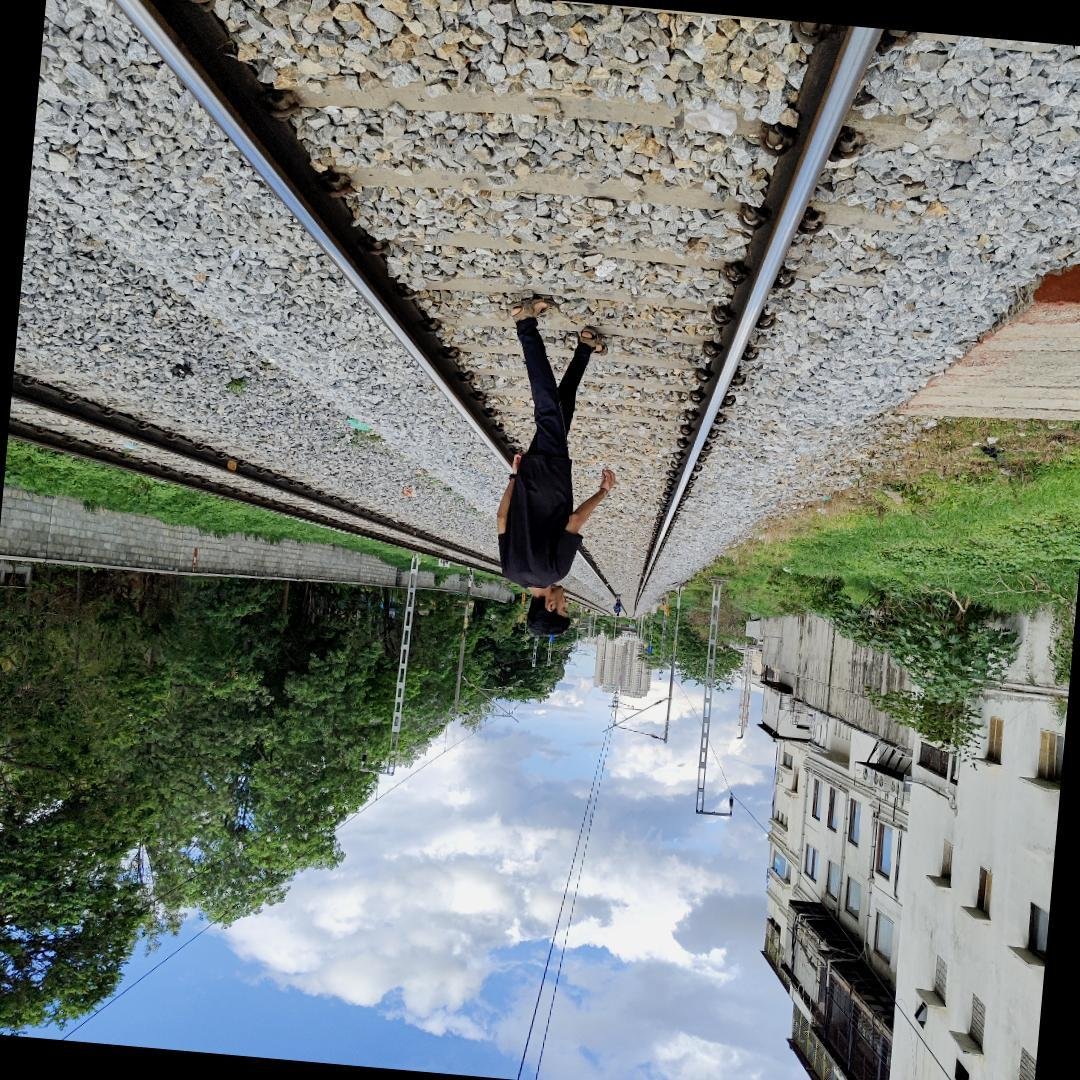standing: (489, 292, 634, 647), (611, 590, 621, 617)
